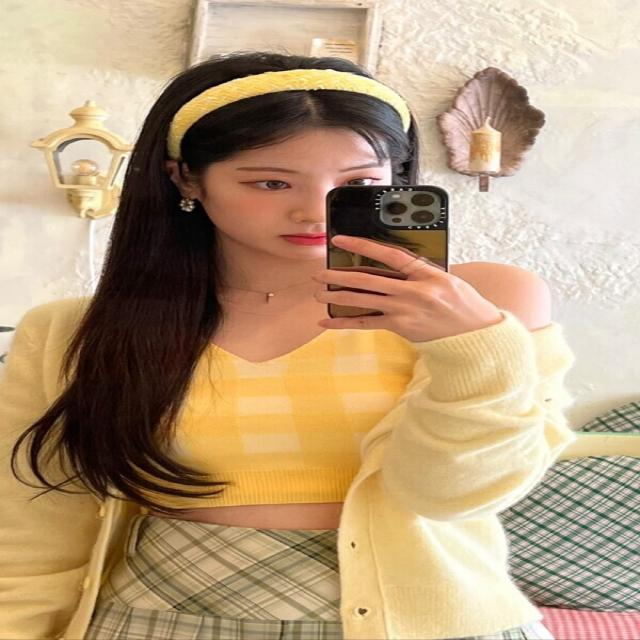phone: (326, 185, 448, 322)
